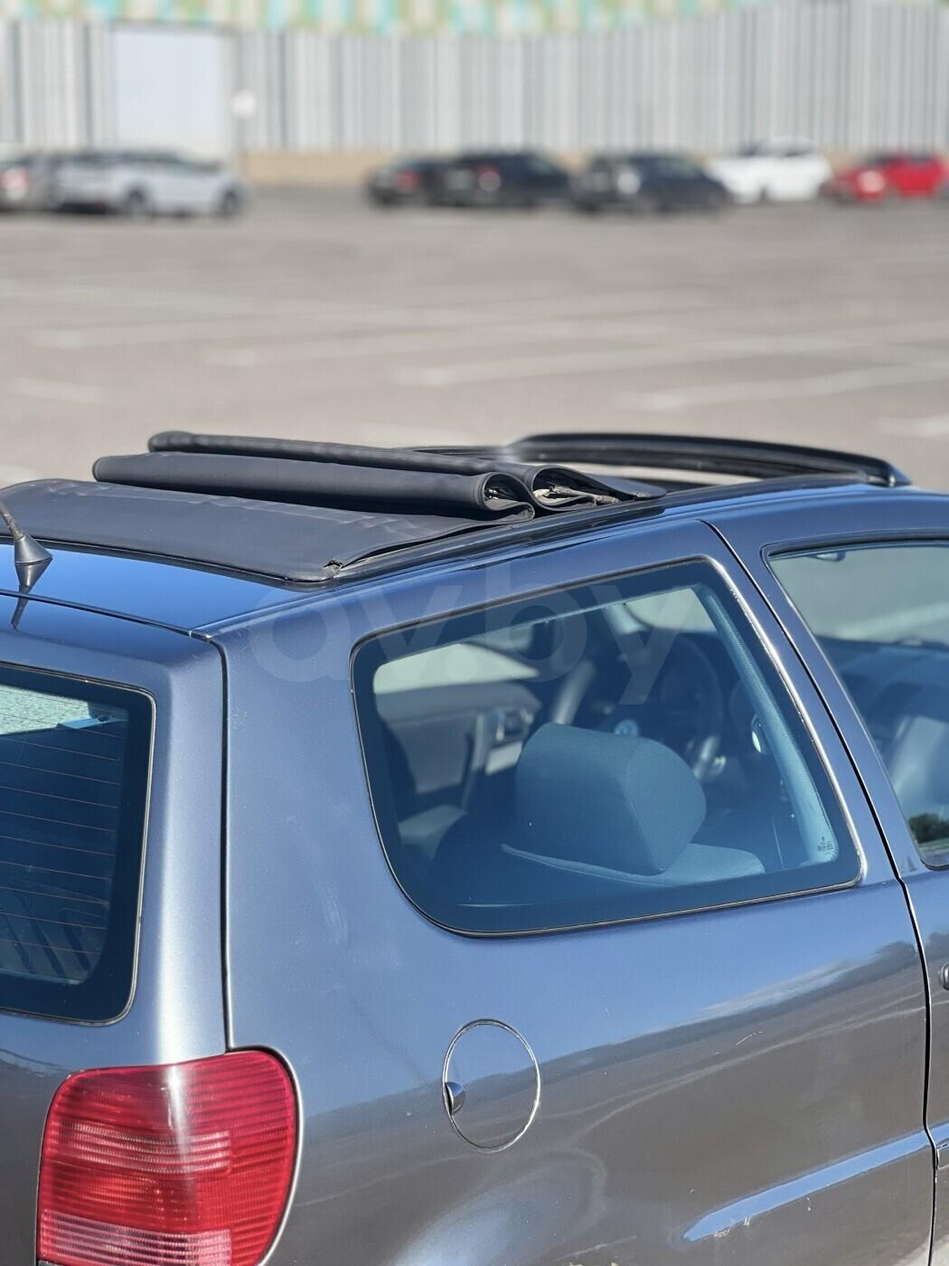Polo_2000-2002: (0, 412, 949, 1266)
